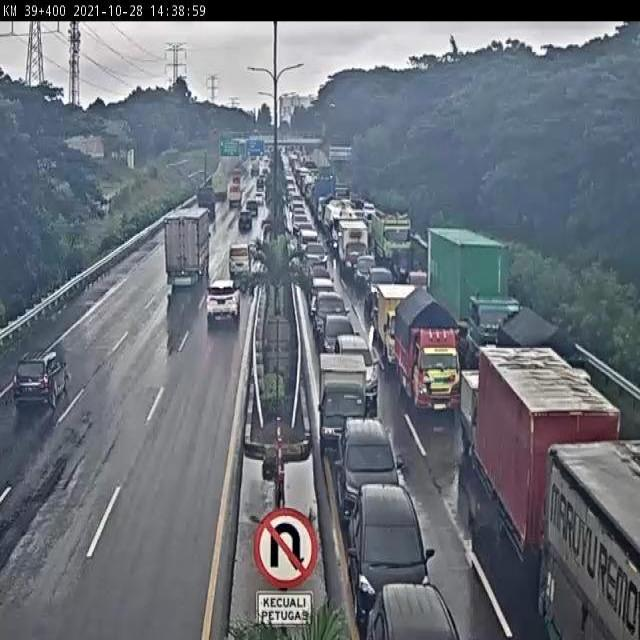big truck: (477, 345, 621, 620), (427, 227, 524, 385), (163, 206, 210, 290)
car: (347, 481, 438, 624), (337, 419, 406, 528), (363, 574, 459, 640), (14, 351, 71, 409), (373, 205, 418, 276), (322, 312, 359, 368), (311, 292, 350, 345), (205, 277, 242, 327), (366, 266, 395, 314), (308, 276, 338, 319), (225, 240, 252, 281), (304, 242, 328, 274), (355, 255, 377, 288), (235, 215, 252, 240)
small truck: (495, 306, 592, 451), (394, 281, 464, 415), (316, 353, 373, 460), (376, 286, 422, 370), (337, 219, 370, 277), (197, 185, 217, 218)
